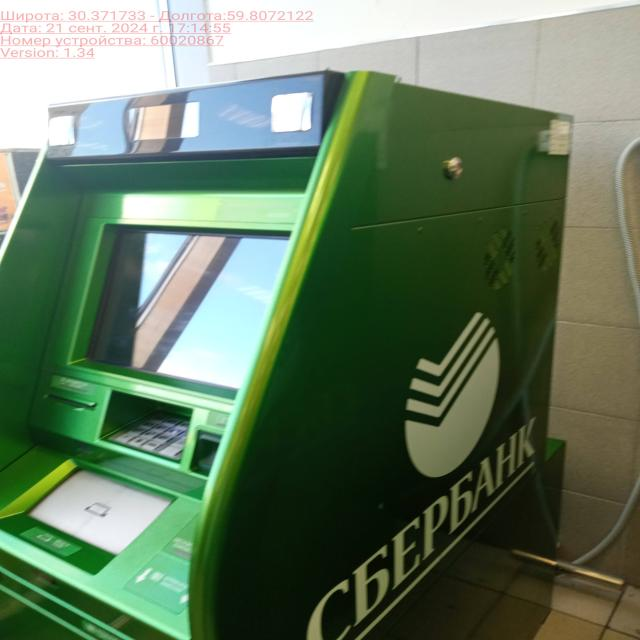bank: (0, 69, 578, 640)
